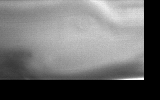cell: (74, 15, 94, 34), (45, 52, 65, 70)
